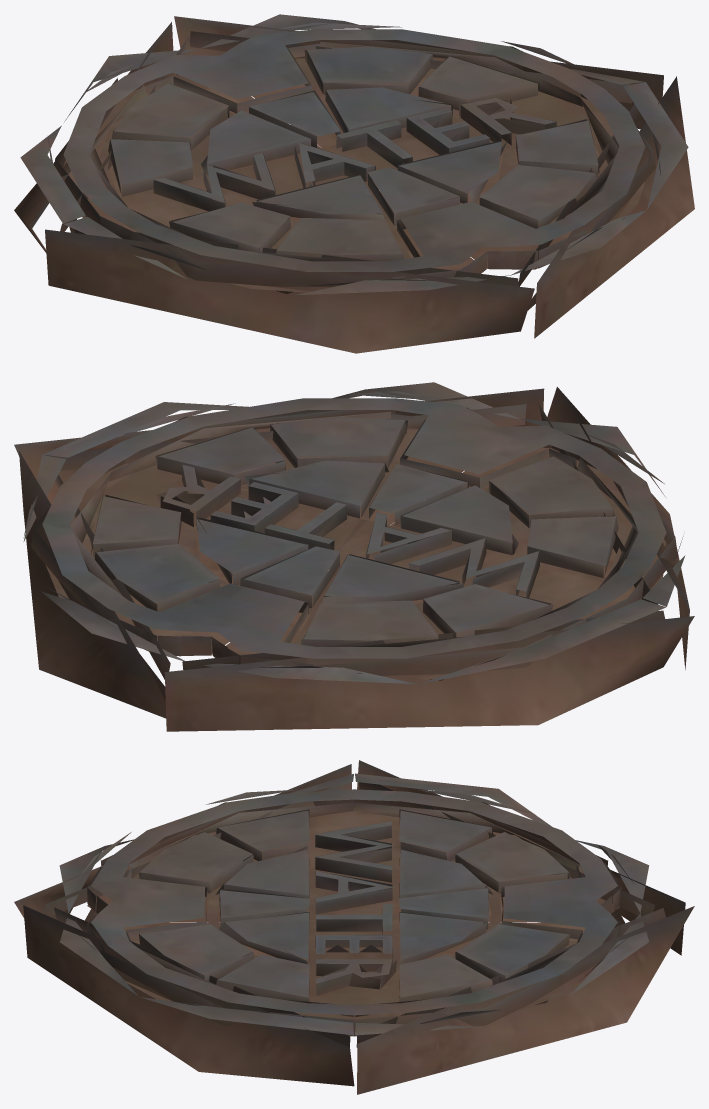
The model's file is water_manhole_cover.glb.
The picture shows the model from 3 angles, top to bottom: view 1: azimuth 30°, elevation 25°; view 2: azimuth 150°, elevation 25°; view 3: azimuth 270°, elevation 25°; orthographic projection. The views are drawn at different scales.
Parts seen in each view (by area): view 1: water_manhole_cover, water_manhole_cover_frame; view 2: water_manhole_cover, water_manhole_cover_frame; view 3: water_manhole_cover, water_manhole_cover_frame.
Boxes of the visible parts, box(x1,y1,x2,y2) form: water_manhole_cover: box(54, 29, 655, 295); water_manhole_cover_frame: box(14, 14, 694, 353); water_manhole_cover: box(31, 398, 677, 683); water_manhole_cover_frame: box(14, 382, 694, 731); water_manhole_cover: box(86, 789, 622, 1036); water_manhole_cover_frame: box(14, 760, 694, 1094).
Size of the model in its own units: 0.7668 by 0.0678 by 0.7668.
Materials: 1 (1 with a texture image).
